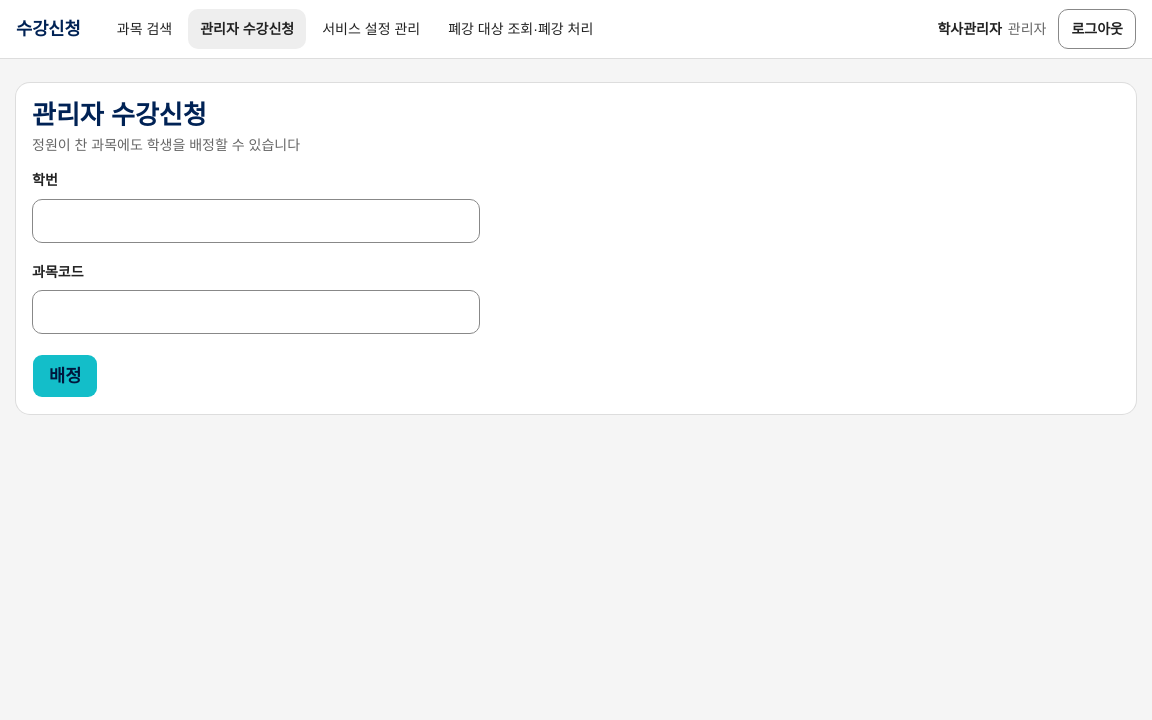
Test: T2-12 관리자는 정원 초과 배정을 확인한다
The width and height of the screenshot is (1152, 720).
Type "20260002" into the field labelled "학번" at x=256, y=221, box [32,199,480,243]
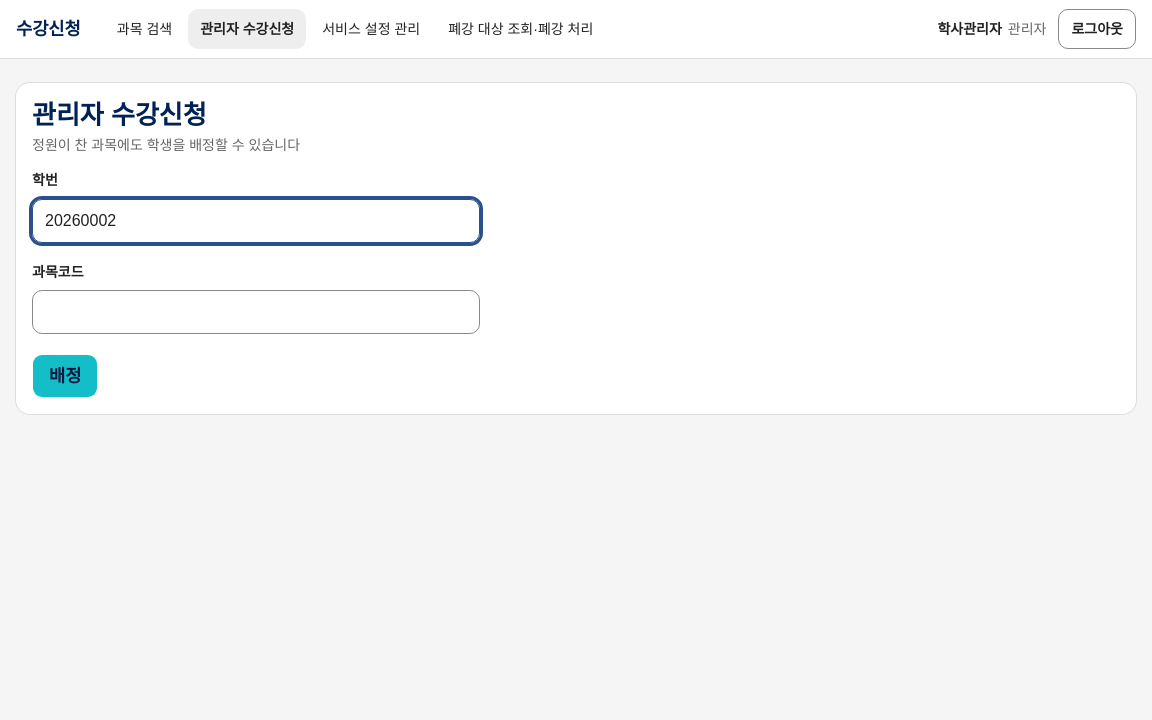
Type "GEN1001" into the field labelled "과목코드" at x=256, y=312, box [32,290,480,334]
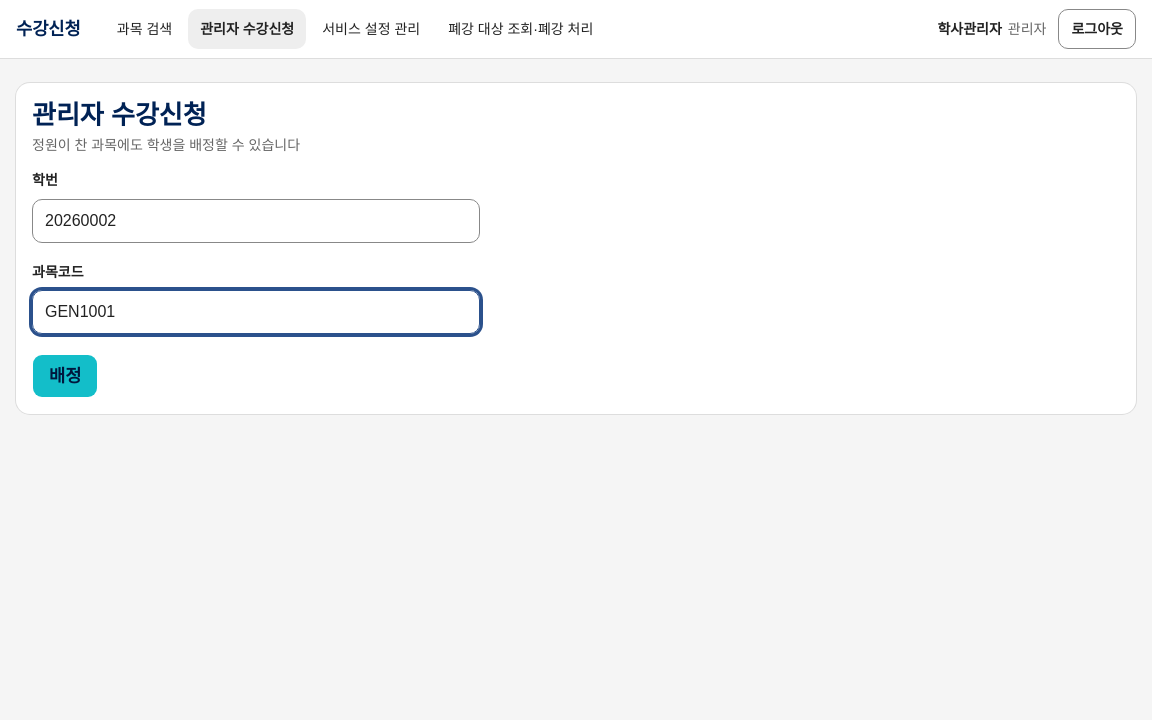
Click the button "배정" at x=65, y=376, box [32,354,98,398]
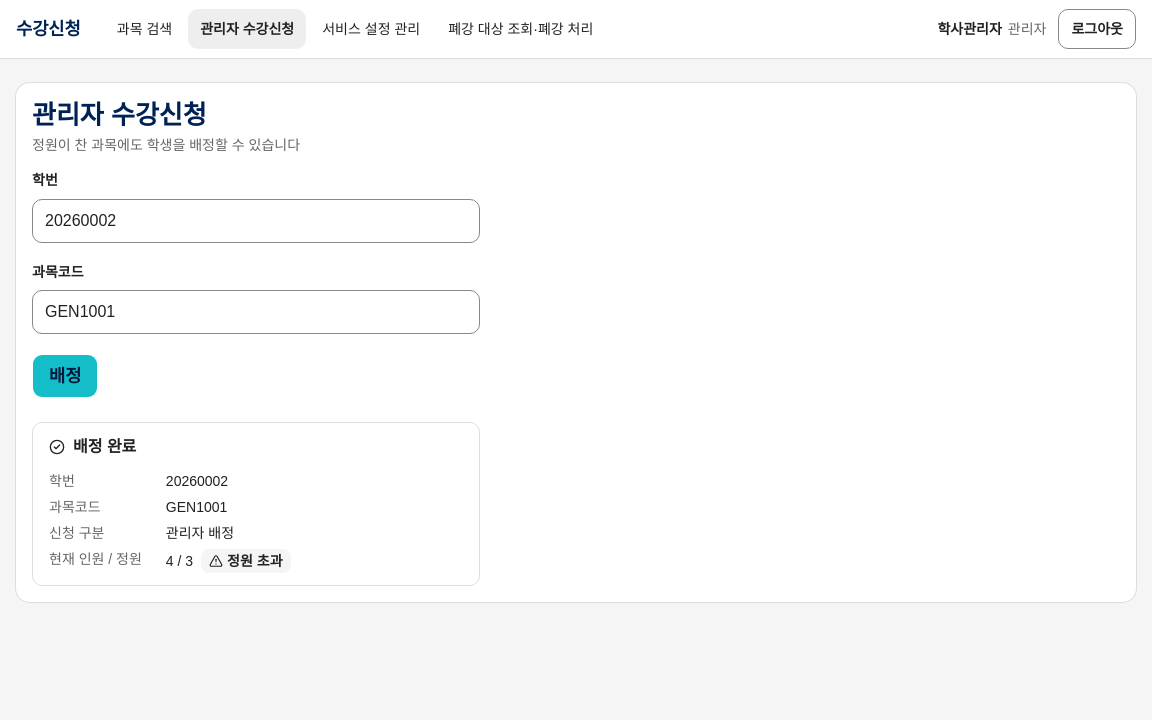
Result: the message with test id "admin-enroll-result" shows "정원 초과" at [227,553,282,569]
Result: the message with test id "admin-enroll-result" reads "배정 완료 학번 20260002 과목코드 GEN1001 신청 구분 관리자 배정 현재 인원 / 정원 4 / 3 정원 초과" at [32,398,480,586]
